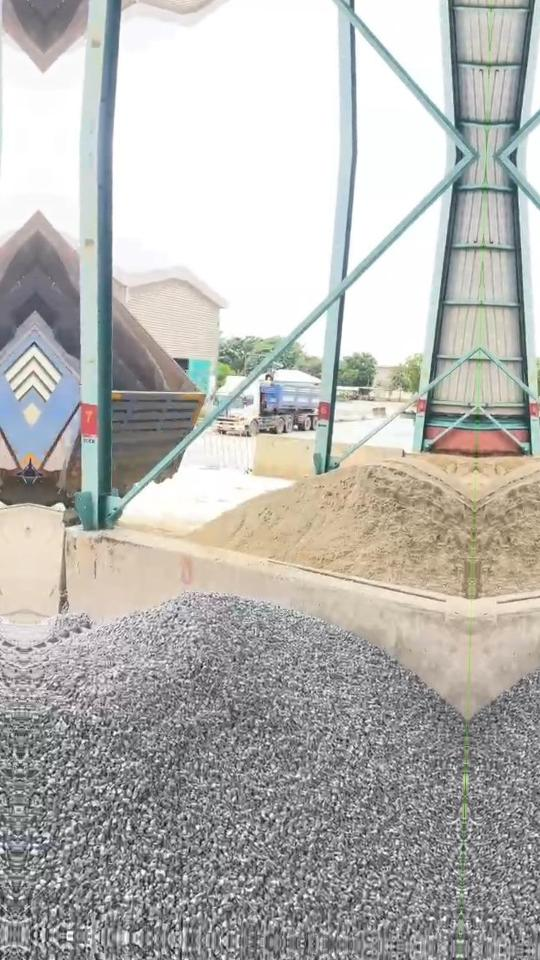gravel: (17, 593, 465, 948), (23, 612, 91, 666)
sand: (189, 458, 473, 596), (405, 453, 474, 499)
